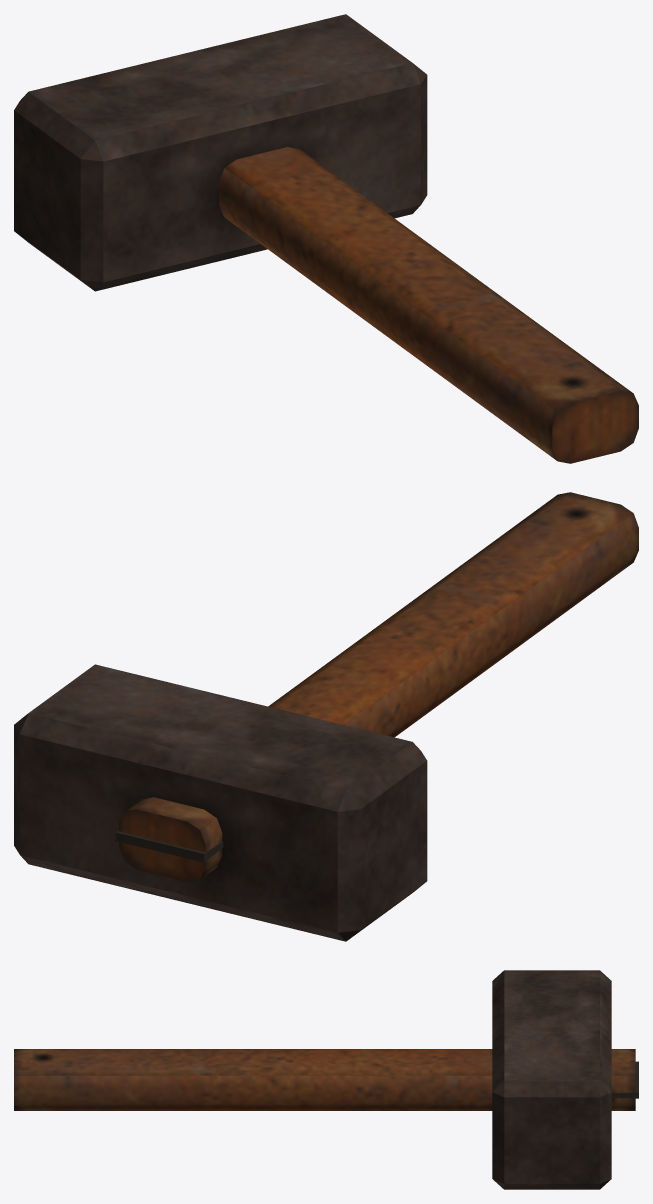
Rendered from hammer_mx_1.obj.
The picture shows the model from 3 angles, top to bottom: view 1: azimuth 30°, elevation 25°; view 2: azimuth 150°, elevation 25°; view 3: azimuth 270°, elevation 25°; orthographic projection. The views are drawn at different scales.
Parts seen in each view (by area): view 1: hammer_mx_1; view 2: hammer_mx_1; view 3: hammer_mx_1.
Part boxes in pixels (x1=…): hammer_mx_1: x1=14, y1=14, x2=638, y2=463; hammer_mx_1: x1=14, y1=492, x2=638, y2=941; hammer_mx_1: x1=14, y1=970, x2=638, y2=1189.
Bounding box in the file's own units: 0.24 × 0.1 × 0.5227.
